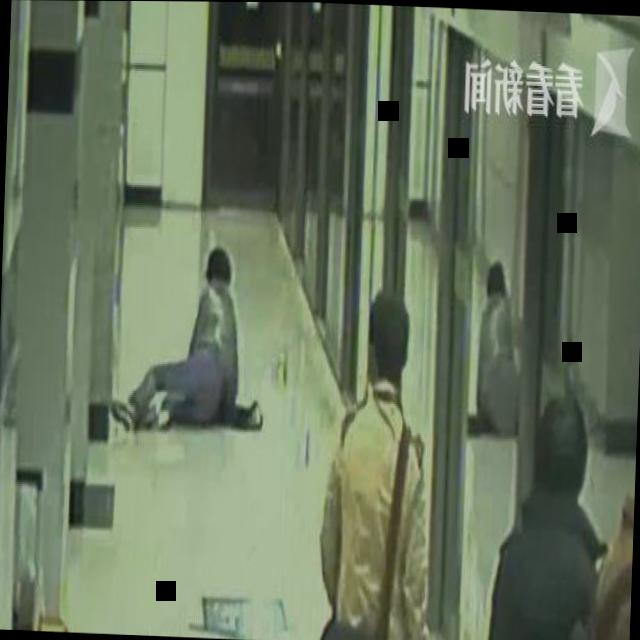Fall-Detected: (466, 250, 543, 435)
